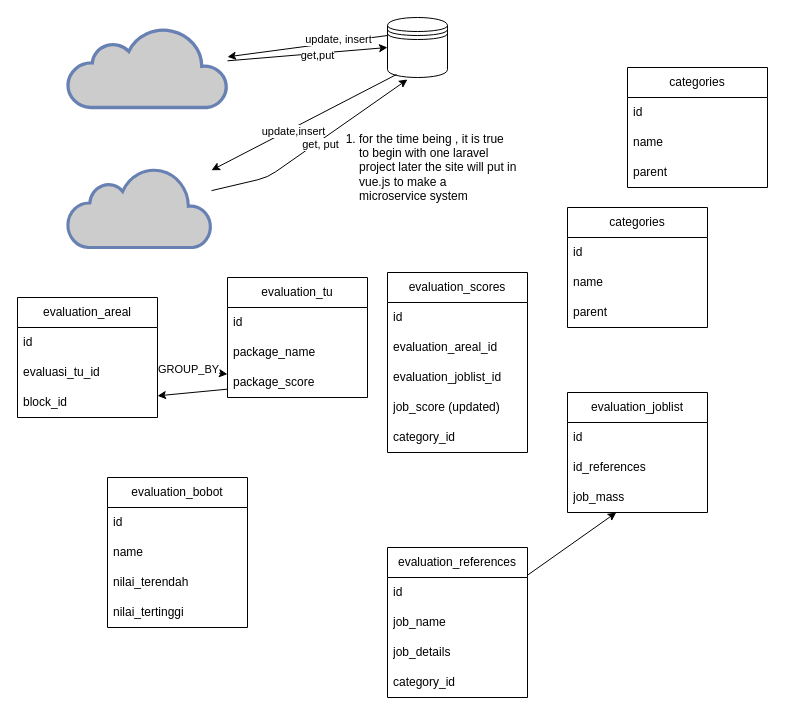
Image size: 785x715. Some labels were removed from this diagram. The shapes that lost their labels are listed below. From the top down, each one's centre as x and y in pixels, then its label:
(x=147, y=67): api-dof.iopri.co.id
(x=139, y=207): dof.iopri.co.id
